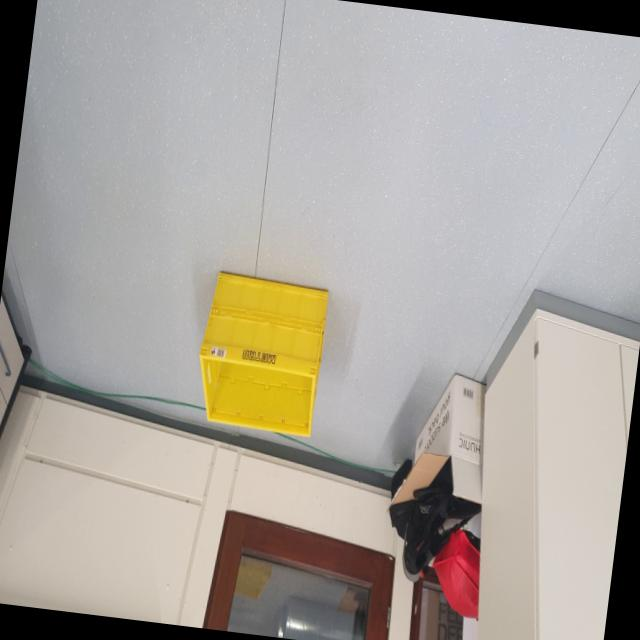box: (185, 248, 342, 461)
